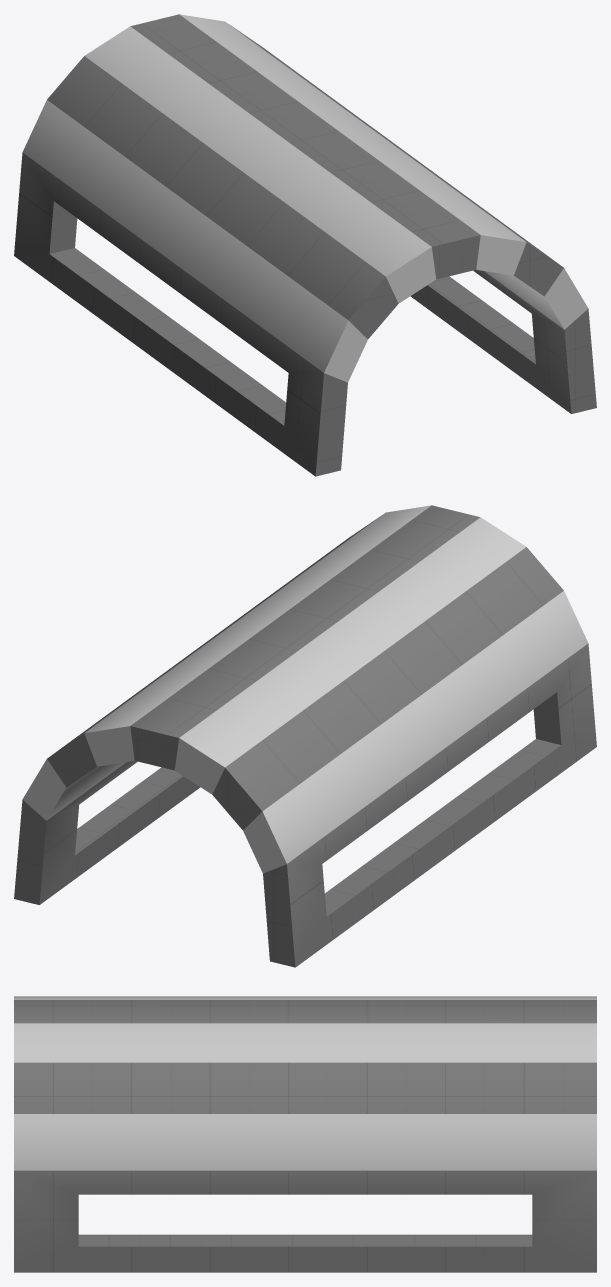
File: Tunnel.fbx
The picture shows the model from 3 angles, top to bottom: view 1: azimuth 30°, elevation 25°; view 2: azimuth 150°, elevation 25°; view 3: azimuth 270°, elevation 25°; orthographic projection. The views are drawn at different scales.
Visible parts, largest first — view 1: Tunnel; view 2: Tunnel; view 3: Tunnel.
Boxes of the visible parts, x1,y1,x2,y2 form: Tunnel: [14, 14, 596, 476]; Tunnel: [14, 505, 596, 967]; Tunnel: [14, 996, 596, 1272].
Bounding box in the file's own units: 10.69 × 7.31 × 19.84.
